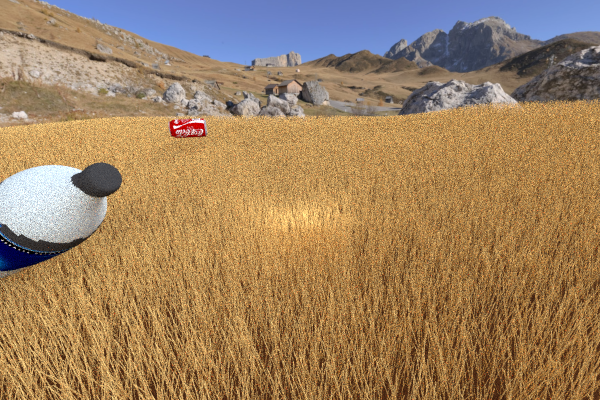Plastic Bottle: (0, 162, 122, 283), (0, 251, 68, 400), (168, 118, 207, 138)
